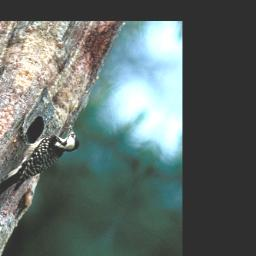Woodpecker: (0, 106, 88, 223)
